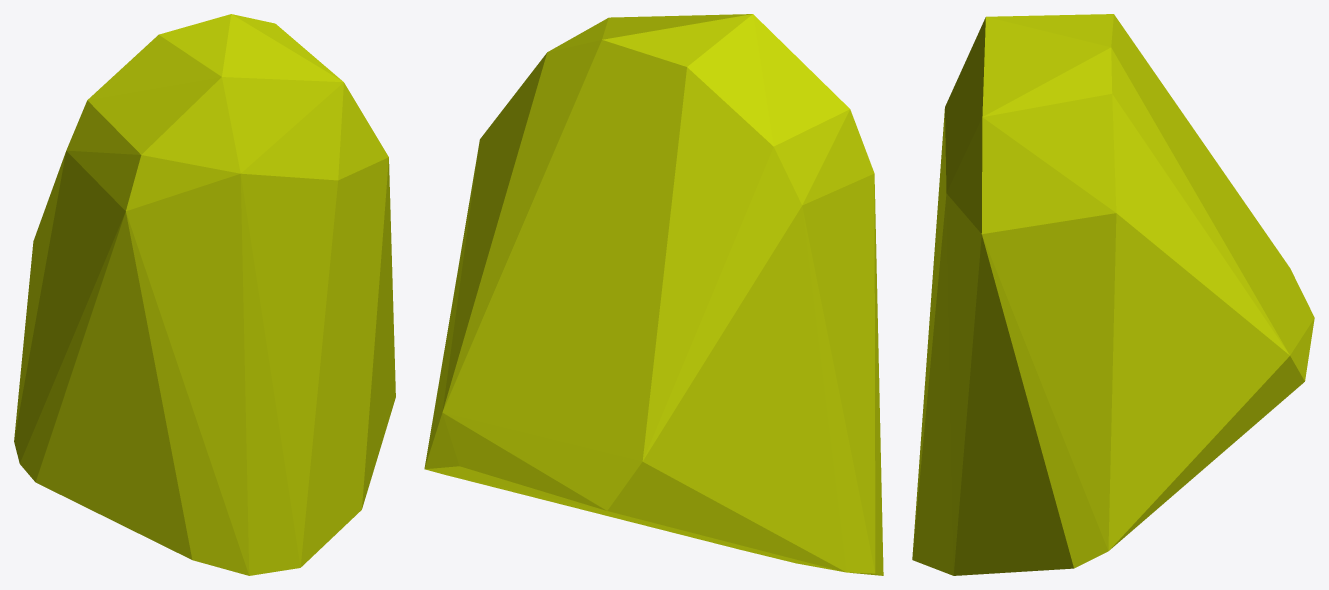
Rendered from toe-roll_convex_piece_002.obj.
3 renders of one model, left to right at view 1: azimuth 30°, elevation 25°; view 2: azimuth 150°, elevation 25°; view 3: azimuth 270°, elevation 25°, orthographic. The views are drawn at different scales.
Size of the model in its own units: 0.0467 by 0.0588 by 0.0409.
